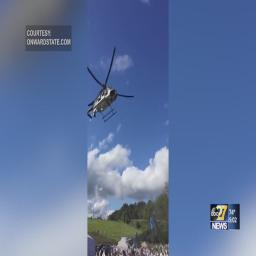helicopter: (84, 48, 137, 126)
